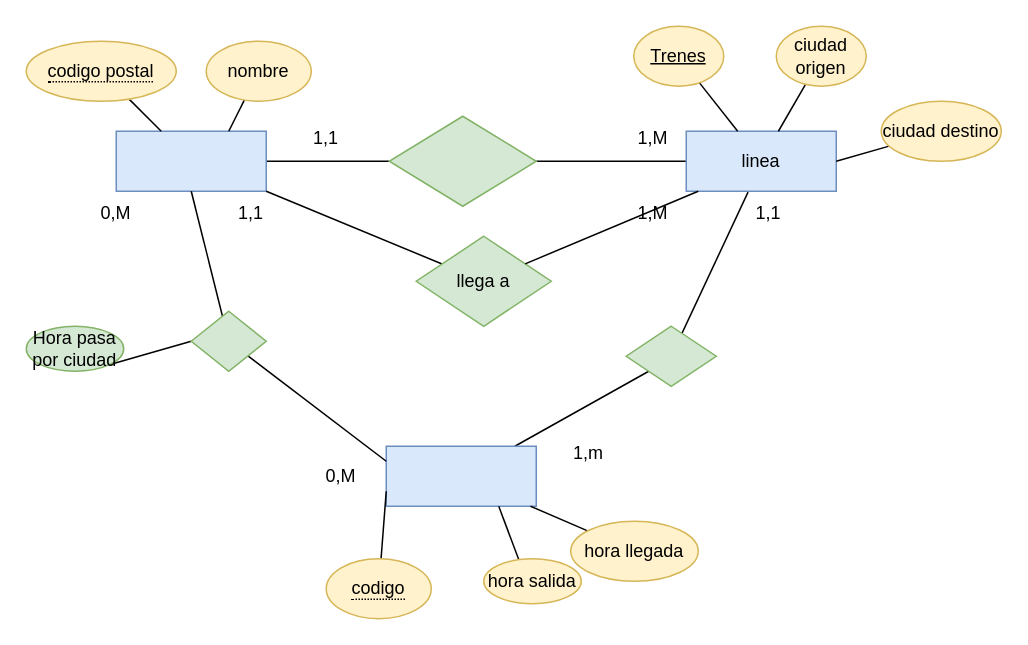
This 1028x645 diagram has some shape labels left out. The centre of each missing label's shape, as x and y in pixels:
"ciudad" goes at point (190, 160).
"esta" goes at point (670, 355).
"pasa por" goes at point (228, 340).
"sale" goes at point (462, 160).
"Tren" goes at point (460, 475).
